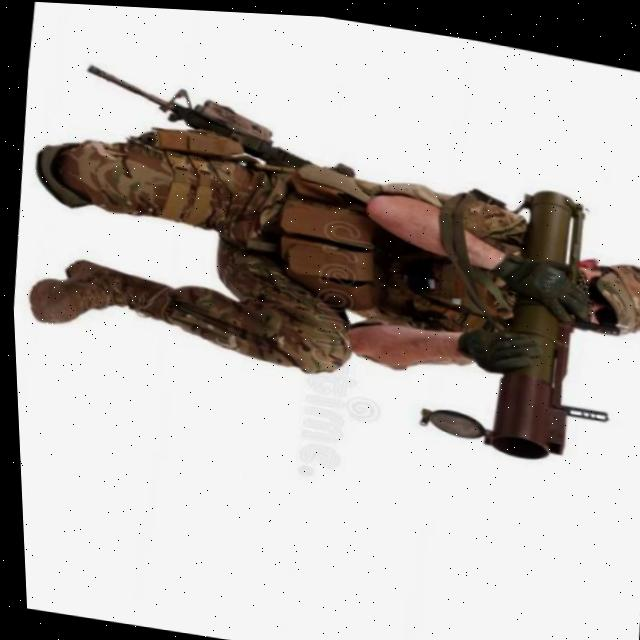rocket: (406, 159, 637, 470)
